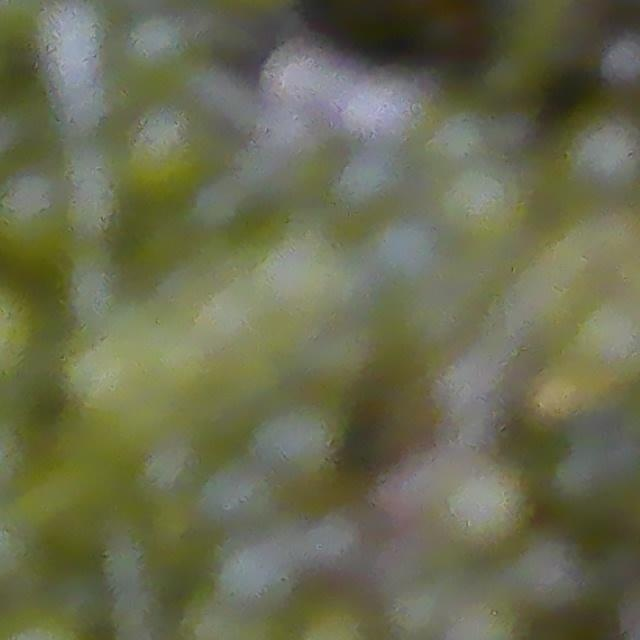SeaGrape: (251, 394, 347, 487), (439, 458, 533, 551), (504, 532, 593, 621), (439, 161, 529, 249), (0, 169, 72, 264), (563, 112, 640, 197), (214, 535, 295, 614), (196, 455, 275, 531), (371, 217, 442, 286), (123, 12, 189, 82), (600, 33, 640, 88)
